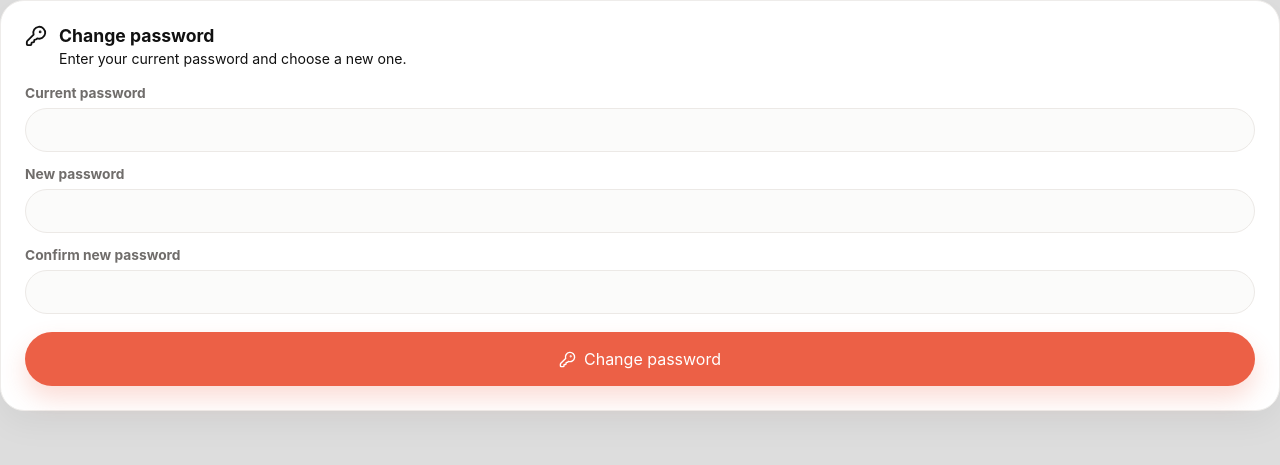
Scenario: ChangePasswordForm › submits valid passwords and clears the fields
Type "current-pass" into the password field labelled "Current password" at (640, 130), box [25, 108, 1255, 152]
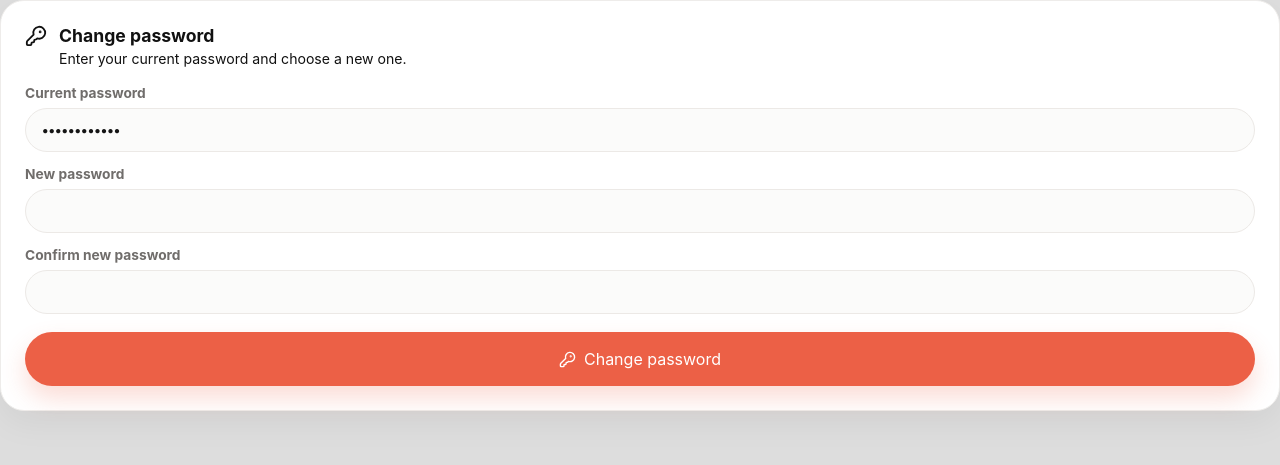
Type "next-password" into the password field labelled "New password" at (640, 211), box [25, 189, 1255, 233]
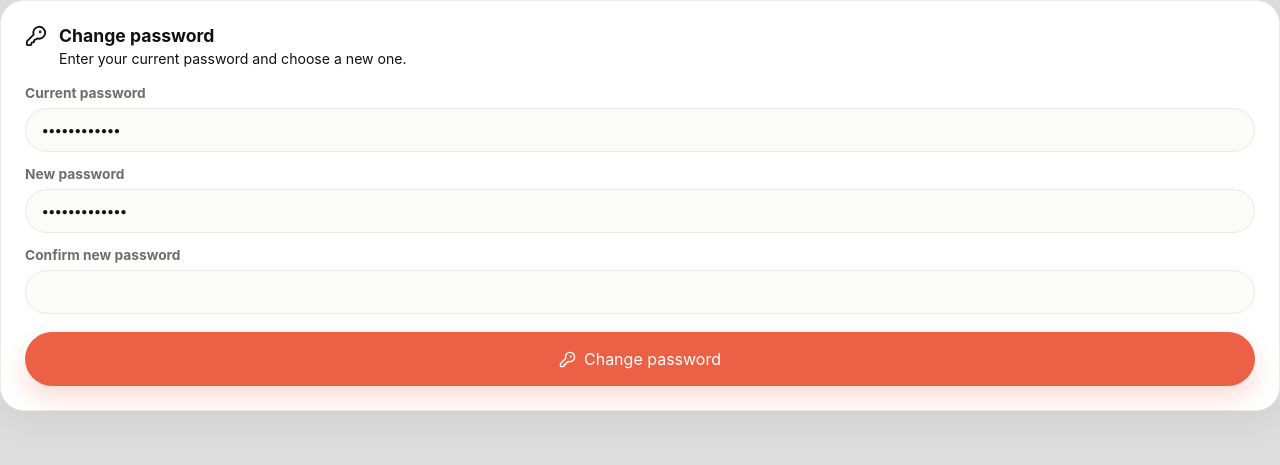
Type "next-password" into the password field labelled "Confirm new password" at (640, 292), box [25, 270, 1255, 314]
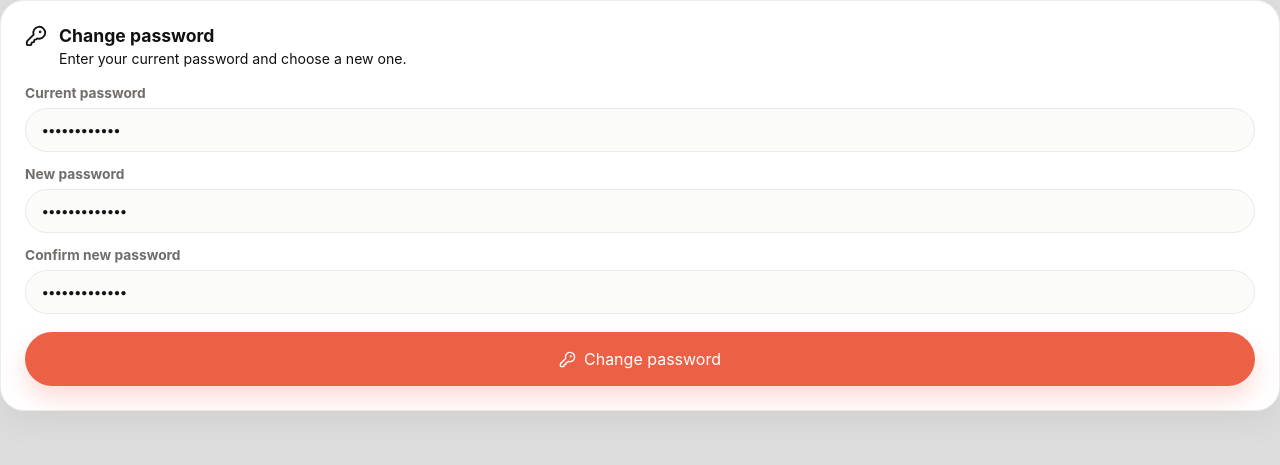
Click the button "Change password" at (640, 359), box [25, 332, 1255, 386]
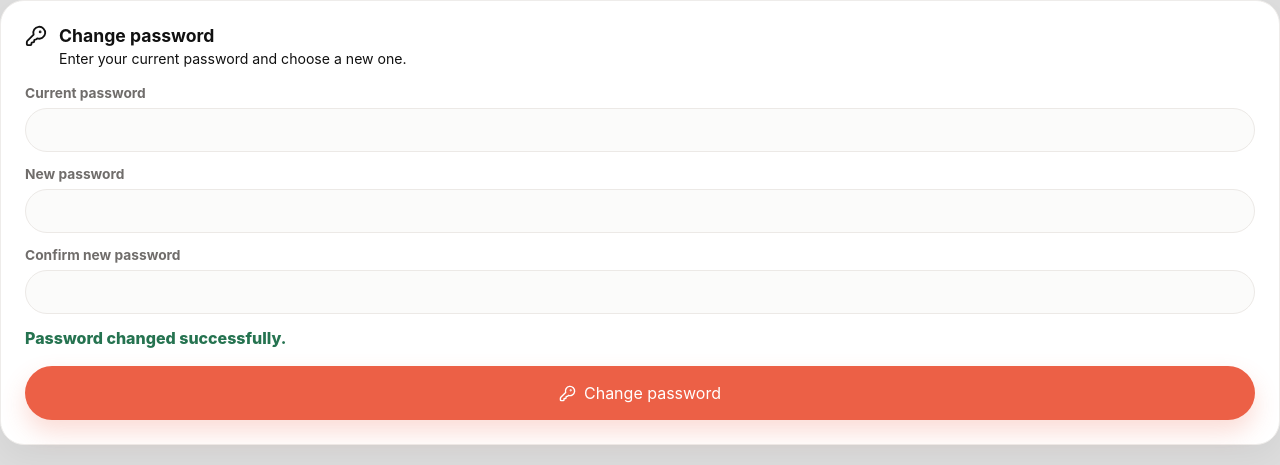
Expected: the message reads "Password changed successfully.", [25, 328, 286, 348]
Expected: the password field labelled "Current password" is empty, [25, 108, 1255, 152]
Expected: the password field labelled "New password" is empty, [25, 189, 1255, 233]
